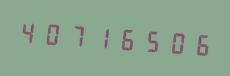five: (137, 21, 160, 59)
four: (17, 13, 40, 50)
one: (89, 18, 112, 55)
seven: (65, 16, 88, 54)
six: (113, 19, 136, 57), (185, 24, 208, 62)
zero: (41, 14, 64, 52), (161, 23, 184, 60)
